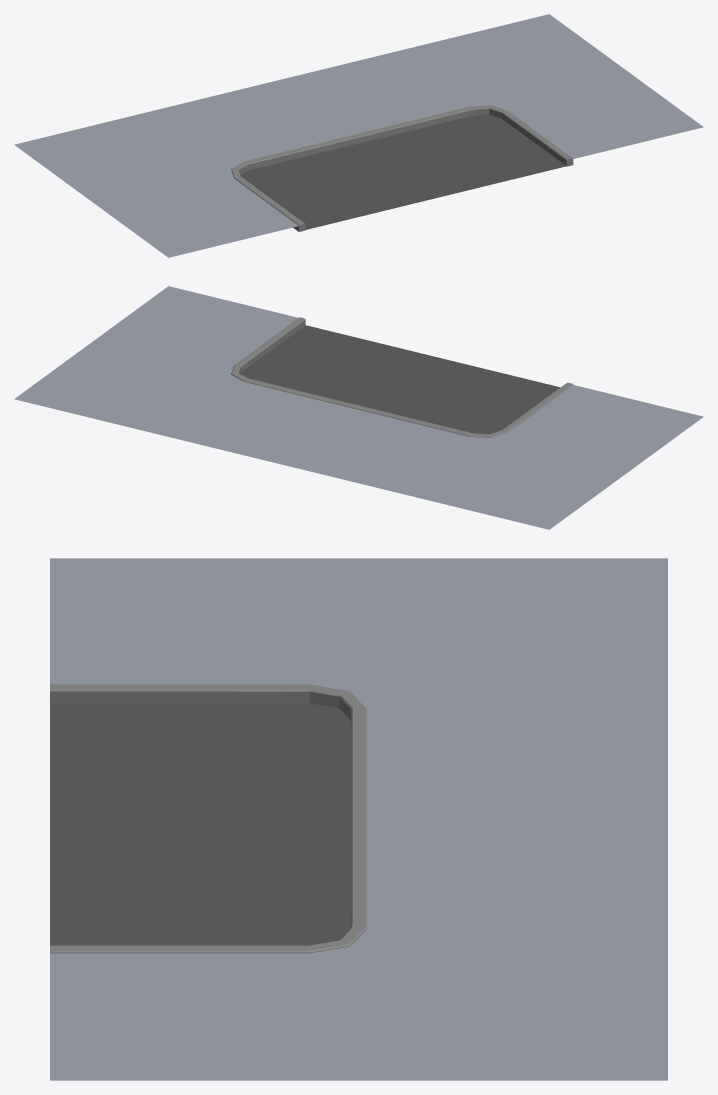
Rendered from Road_06.fbx.
The picture shows the model from 3 angles, top to bottom: view 1: azimuth 30°, elevation 25°; view 2: azimuth 150°, elevation 25°; view 3: azimuth 270°, elevation 25°; orthographic projection. The views are drawn at different scales.
Parts seen in each view (by area): view 1: Road_06; view 2: Road_06; view 3: Road_06.
Part boxes in pixels (left/top/right/bottom): Road_06: left=14, top=14, right=703, bottom=257; Road_06: left=14, top=286, right=703, bottom=529; Road_06: left=50, top=558, right=667, bottom=1080.
Size of the model in its own units: 1200 by 15 by 600.
